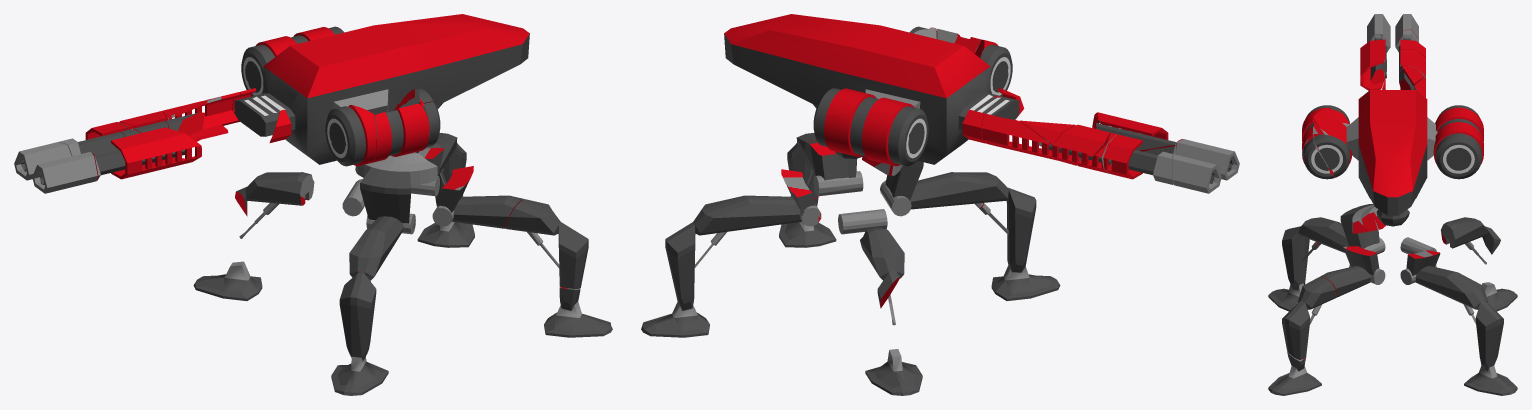
File: Shattered Turret.fbx
3 views of the same model, side by side, from view 1: azimuth 30°, elevation 25°; view 2: azimuth 150°, elevation 25°; view 3: azimuth 270°, elevation 25° (orthographic). The views are drawn at different scales.
Parts seen in each view (by area): view 1: turret body_cell.026, turret body_cell.001, turret body_cell.022, turret body_cell.027, turret body_cell.057, turret body_cell.028, turret body_cell.033, turret body_cell.055, turret body_cell.048, turret body_cell.018, turret body_cell.008, turret body_cell.036 (+12 smaller); view 2: turret body_cell.026, turret body_cell.048, turret body_cell.001, turret body_cell.040, turret body_cell.027, turret body_cell.006, turret body_cell.022, turret body_cell.065, turret body_cell.018, turret body_cell.025, turret body_cell.031, turret body_cell.061 (+18 smaller); view 3: turret body_cell.026, turret body_cell.048, turret body_cell.028, turret body_cell.022, turret body_cell.027, turret body_cell.040, turret body_cell.001, turret body_cell.018, turret body_cell.029, turret body_cell.008, turret body_cell.004, turret body_cell.057 (+19 smaller).
Part boxes in pixels (x1,y1,x2,y2): turret body_cell.026: (234,14,529,153); turret body_cell.001: (234,33,529,157); turret body_cell.022: (355,152,437,270); turret body_cell.027: (331,271,388,395); turret body_cell.057: (279,97,376,166); turret body_cell.028: (505,199,588,288); turret body_cell.033: (111,128,201,179); turret body_cell.055: (374,104,429,162); turret body_cell.048: (417,133,474,247); turret body_cell.018: (235,172,314,216); turret body_cell.008: (544,287,612,337); turret body_cell.036: (32,152,97,193); turret body_cell.026: (724,14,1019,130); turret body_cell.048: (641,195,801,337); turret body_cell.001: (724,34,1019,164); turret body_cell.040: (815,88,928,166); turret body_cell.027: (991,187,1060,300); turret body_cell.006: (826,111,900,163); turret body_cell.022: (862,156,992,207); turret body_cell.065: (910,172,1008,209); turret body_cell.018: (860,227,904,308); turret body_cell.025: (981,113,1057,160); turret body_cell.031: (865,349,922,395); turret body_cell.061: (1052,124,1109,165); turret body_cell.026: (1346,90,1437,215); turret body_cell.048: (1415,266,1517,395); turret body_cell.028: (1282,276,1336,360); turret body_cell.022: (1304,204,1385,252); turret body_cell.027: (1268,226,1309,311); turret body_cell.040: (1433,105,1483,178); turret body_cell.001: (1346,138,1435,215); turret body_cell.018: (1440,217,1500,254); turret body_cell.029: (1434,139,1483,179); turret body_cell.008: (1268,350,1321,395); turret body_cell.004: (1313,134,1352,177); turret body_cell.057: (1302,105,1349,143).
Size of the model in its own units: 135 by 69.42 by 72.91.
